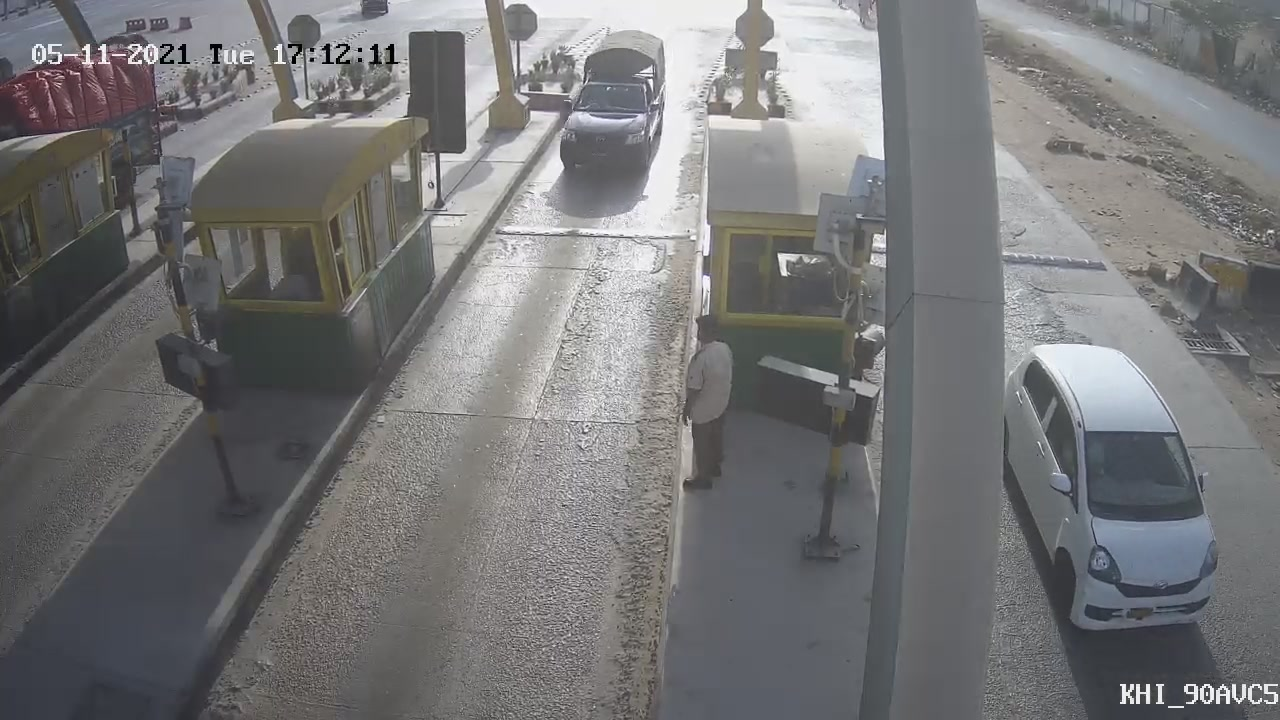F1: (547, 20, 685, 192)
